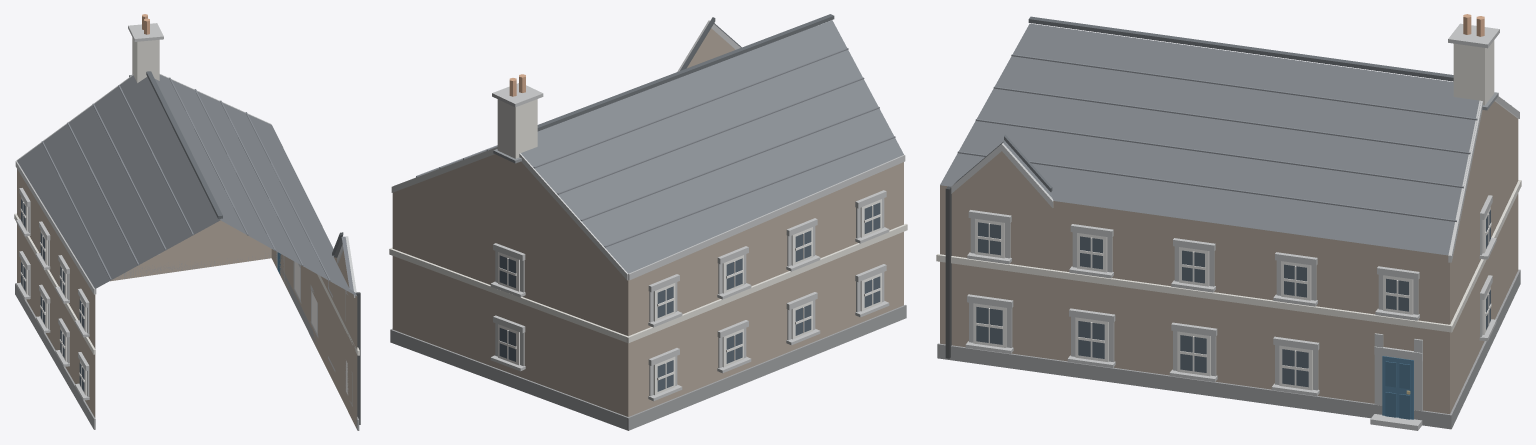
3 views of the same model, side by side, from view 1: azimuth 30°, elevation 25°; view 2: azimuth 150°, elevation 25°; view 3: azimuth 270°, elevation 25° (orthographic). The views are drawn at different scales.
Visible parts, largest first — view 1: slate, harl_brown, stone_band, slate_lt, plinth, frame, slate_dk, chim_render, string, pipe; view 2: harl_brown, slate, stone_band, plinth, frame, string, slate_lt, slate_dk, chim_render; view 3: slate, harl_brown, stone_band, plinth, frame, slate_lt, string, slate_dk, chim_render, door_blue_p, pipe, door_blue (+9 smaller).
Boxes of the visible parts, left/top/right/bottom form: slate: left=17, top=74, right=356, bottom=295; harl_brown: left=17, top=144, right=357, bottom=428; stone_band: left=15, top=23, right=356, bottom=406; slate_lt: left=41, top=77, right=330, bottom=281; plinth: left=15, top=253, right=359, bottom=430; frame: left=20, top=197, right=348, bottom=395; slate_dk: left=146, top=71, right=343, bottom=255; chim_render: left=132, top=37, right=159, bottom=82; string: left=14, top=213, right=359, bottom=355; pipe: left=356, top=292, right=360, bottom=424; harl_brown: left=392, top=28, right=903, bottom=416; slate: left=521, top=20, right=903, bottom=273; stone_band: left=391, top=20, right=905, bottom=401; plinth: left=390, top=305, right=906, bottom=430; frame: left=498, top=199, right=881, bottom=395; string: left=389, top=224, right=907, bottom=343; slate_lt: left=416, top=48, right=895, bottom=247; slate_dk: left=537, top=14, right=834, bottom=131; chim_render: left=497, top=99, right=537, bottom=158; slate: left=940, top=23, right=1480, bottom=255; harl_brown: left=940, top=101, right=1518, bottom=413; stone_band: left=951, top=23, right=1519, bottom=430; plinth: left=937, top=269, right=1520, bottom=429; frame: left=973, top=207, right=1491, bottom=390; slate_lt: left=957, top=54, right=1511, bottom=221; string: left=936, top=180, right=1521, bottom=332; slate_dk: left=1004, top=16, right=1453, bottom=191; chim_render: left=1453, top=40, right=1494, bottom=105; door_blue_p: left=1385, top=361, right=1410, bottom=419; pipe: left=945, top=186, right=951, bottom=358; door_blue: left=1382, top=356, right=1413, bottom=419.
Bounding box in the file's own units: 13.51 × 10.78 × 16.9.
